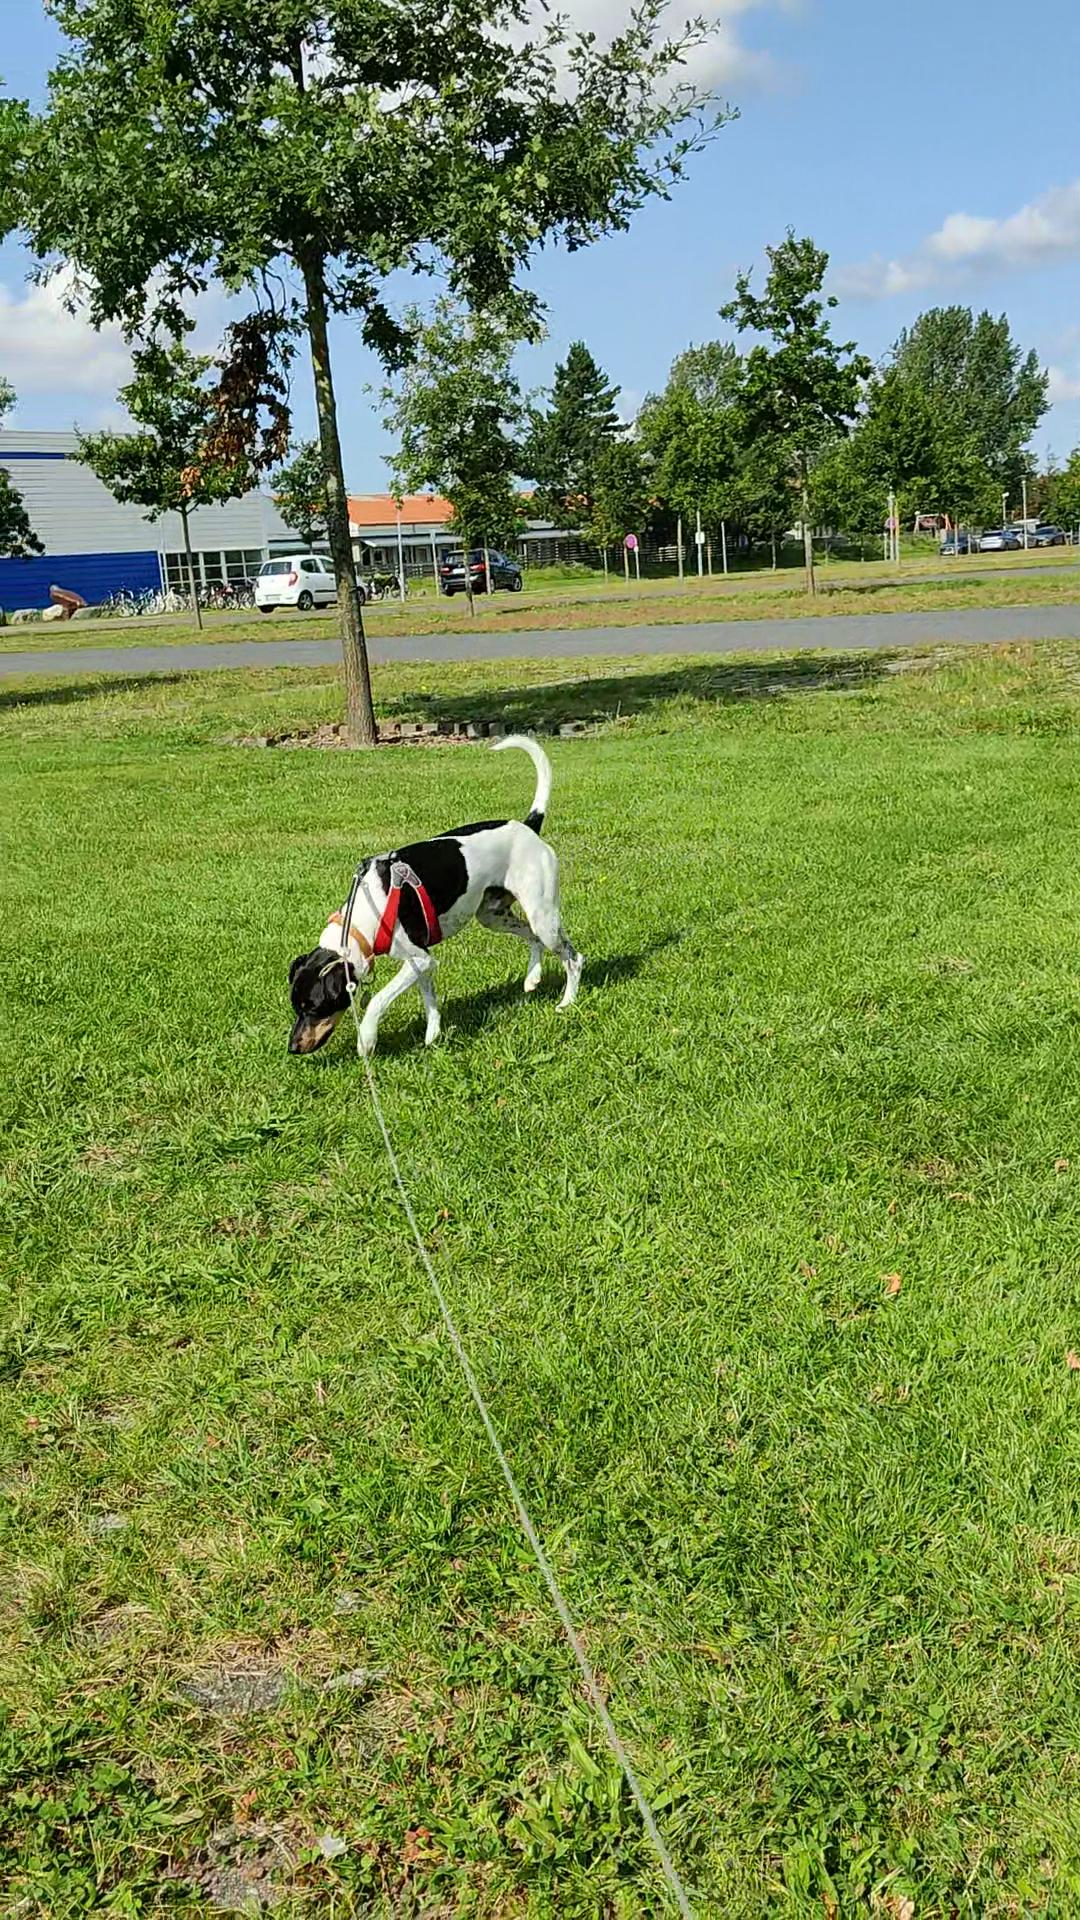Dog: (280, 727, 585, 1060)
